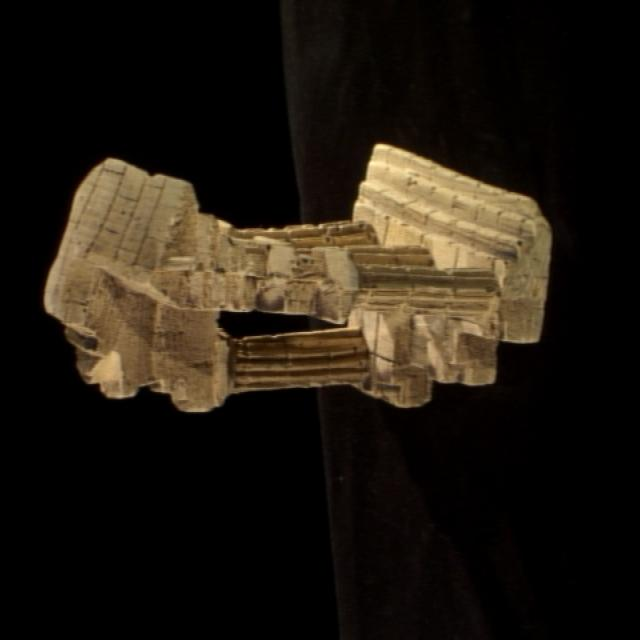Instance-Segmentation: (46, 144, 550, 411)
